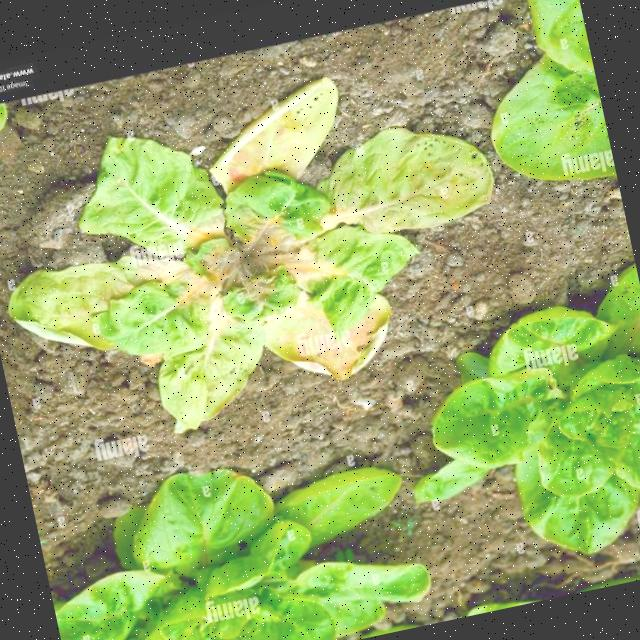Wilt_and_leaf_blight_on_lettuce: (19, 70, 455, 443)
